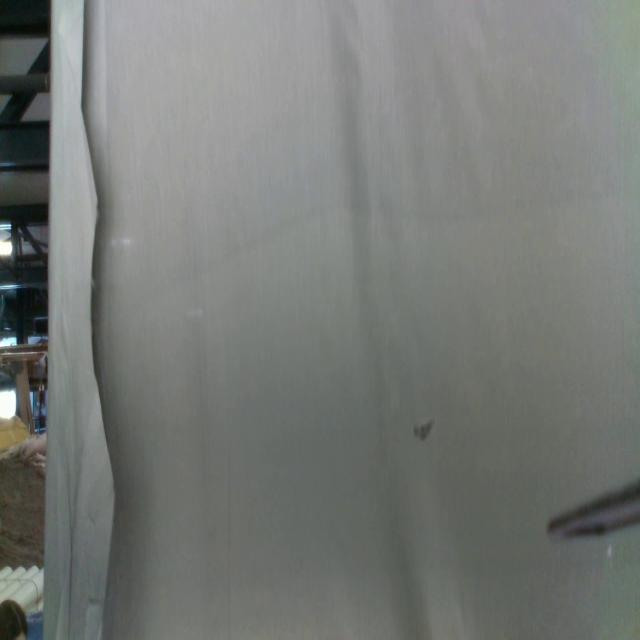hole: (411, 417, 436, 443)
